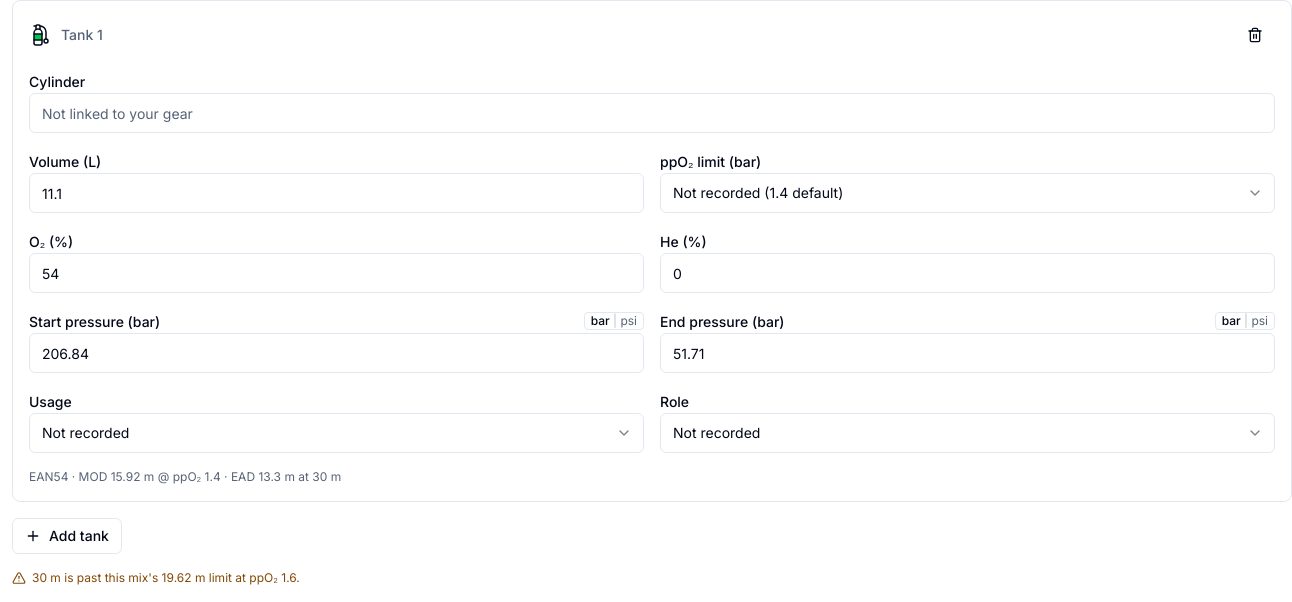
Test: MixtureFields entry units › relabels and reformats both pressures when flipped to psi
Click the button with aria-label "bar | psi — switch pressure entry to psi" at (614, 321), box 584,312 -> 644,330
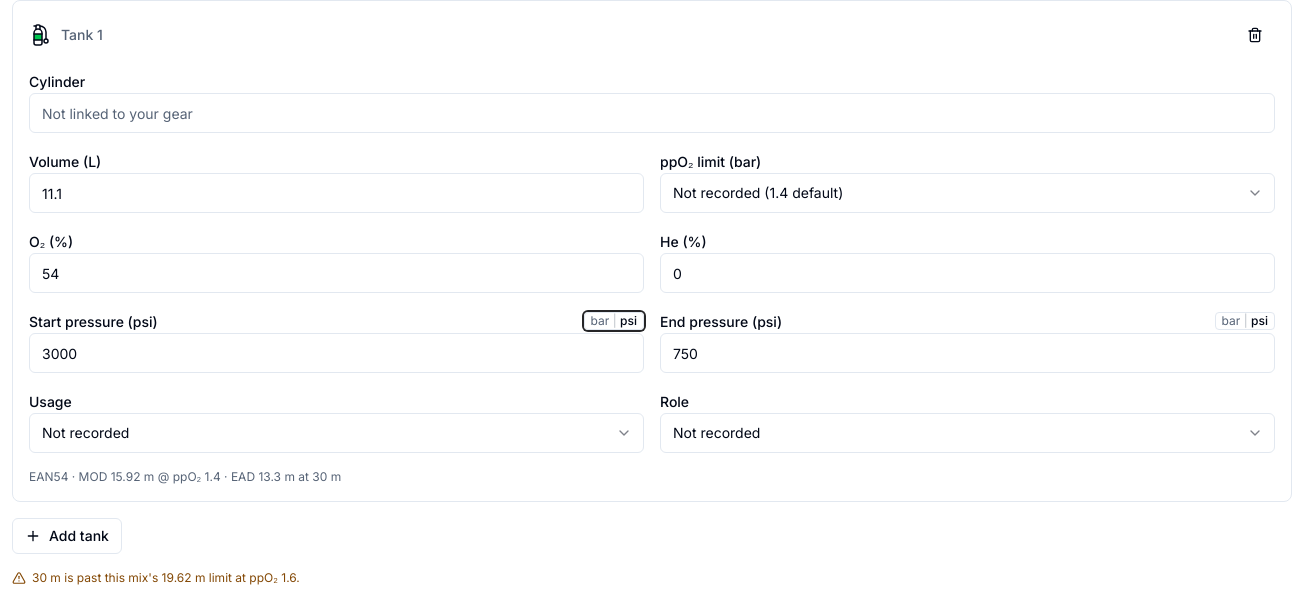
Now the number field labelled "Start pressure (psi)" holds "3000", box 29,333 -> 644,373
Now the number field labelled "End pressure (psi)" holds "750", box 660,333 -> 1275,373
